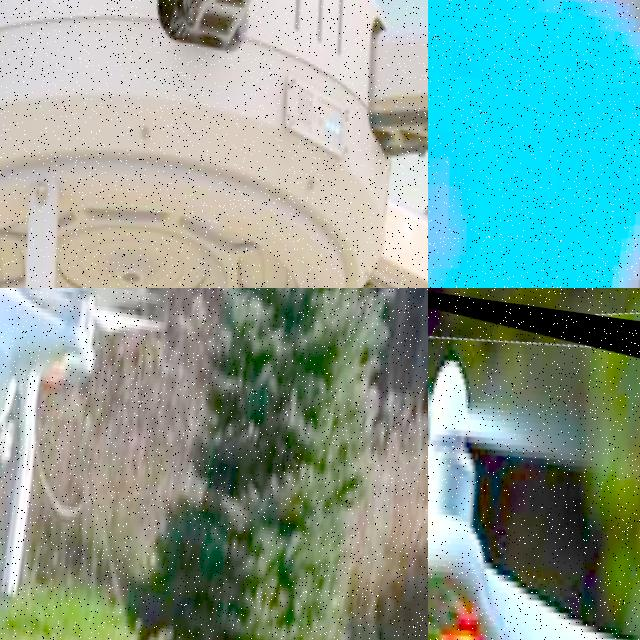0: (428, 288, 640, 640)
drone: (0, 0, 428, 288), (428, 0, 640, 288)
